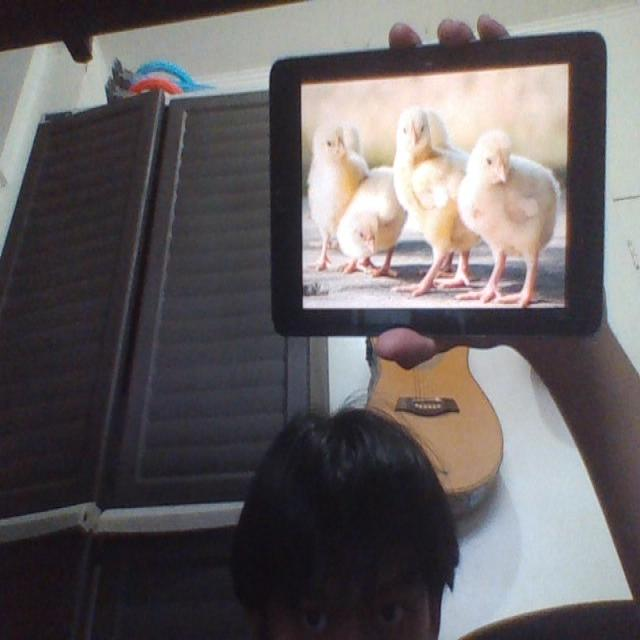Healthy: (458, 134, 550, 309), (392, 105, 476, 296), (310, 126, 364, 242)
Sick: (340, 164, 407, 281)
